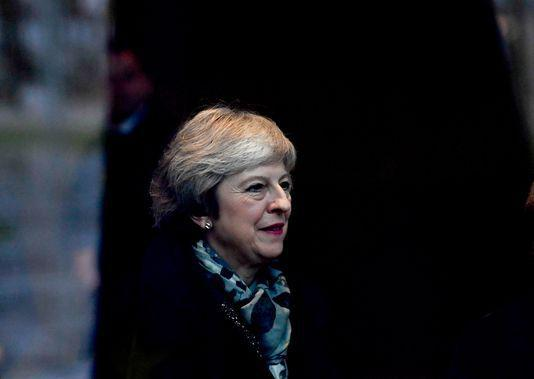Sober: (227, 159, 291, 252)
